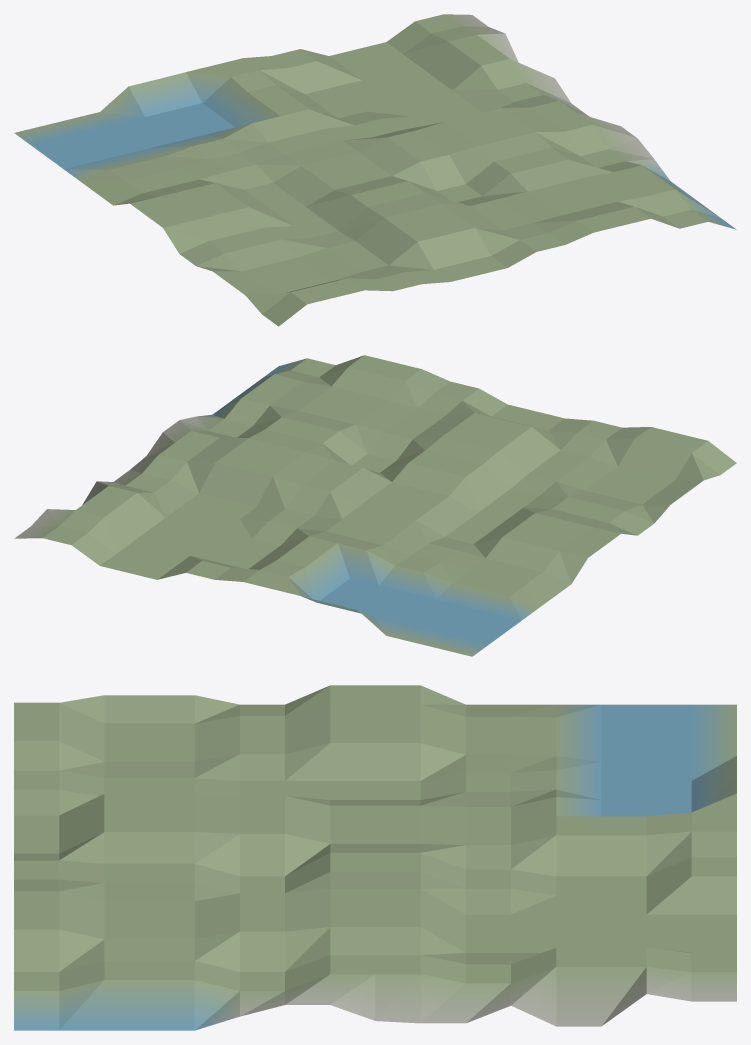
The picture shows the model from 3 angles, top to bottom: view 1: azimuth 30°, elevation 25°; view 2: azimuth 150°, elevation 25°; view 3: azimuth 270°, elevation 25°; orthographic projection. The views are drawn at different scales.
Size of the model in its own units: 32 by 2.26 by 32.
